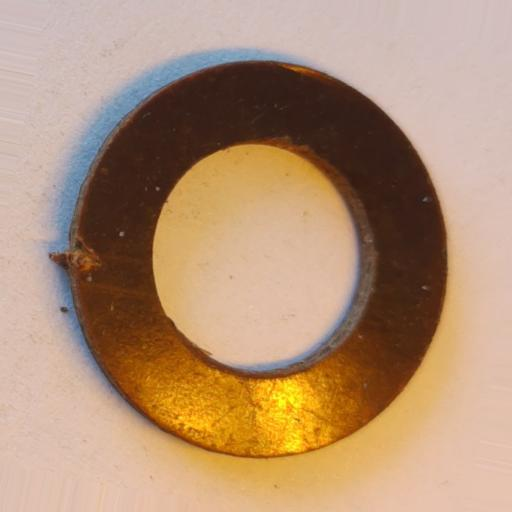defect: (48, 233, 103, 279)
